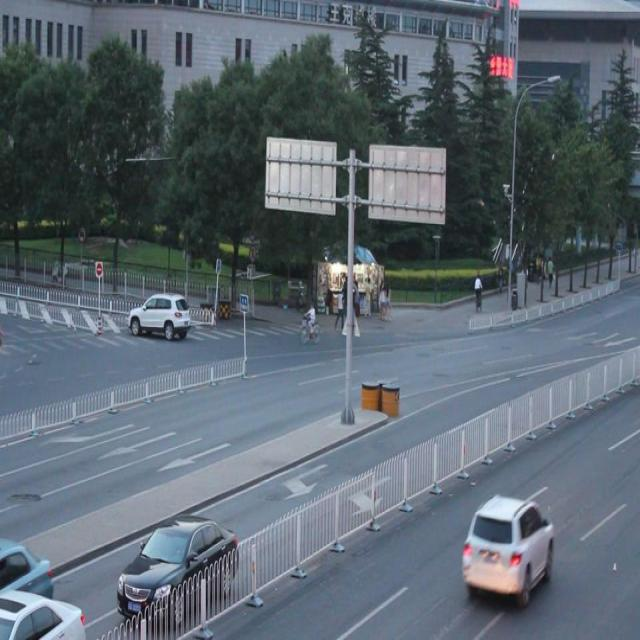car: (115, 516, 240, 616), (459, 492, 554, 602), (1, 585, 86, 640), (1, 533, 55, 605), (128, 291, 190, 341)
